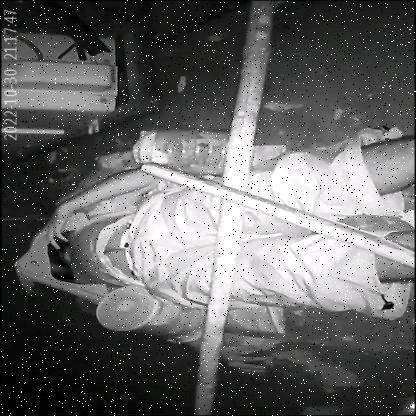hand: (15, 191, 105, 252), (214, 338, 275, 378)
